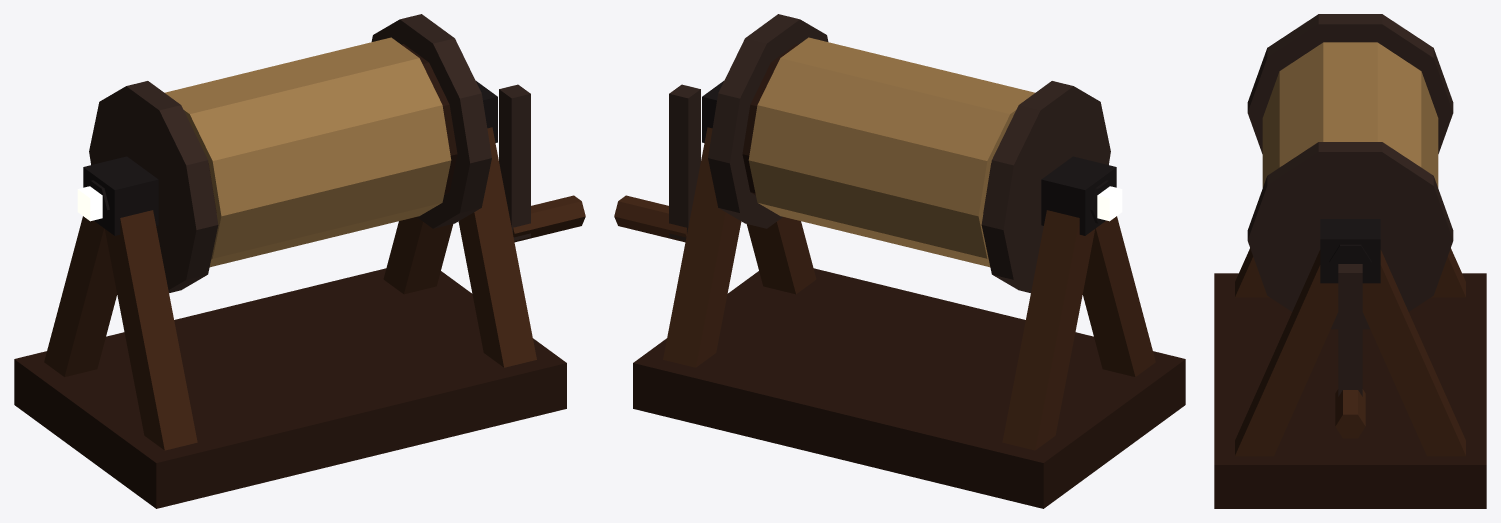
File: winch_crank.glb
3 renders of one model, left to right at view 1: azimuth 30°, elevation 25°; view 2: azimuth 150°, elevation 25°; view 3: azimuth 270°, elevation 25°, orthographic. The views are drawn at different scales.
Visible parts, largest first — view 1: winch_crank, Drum; view 2: winch_crank, Drum; view 3: winch_crank, Drum.
Part boxes in pixels (x1,y1,x2,y2): winch_crank: (14,81,566,508); Drum: (77,14,585,293); winch_crank: (633,81,1185,508); Drum: (614,14,1122,293); winch_crank: (1214,219,1486,508); Drum: (1247,14,1453,438).
Size of the model in its own units: 1.8 by 1.2 by 0.9.
